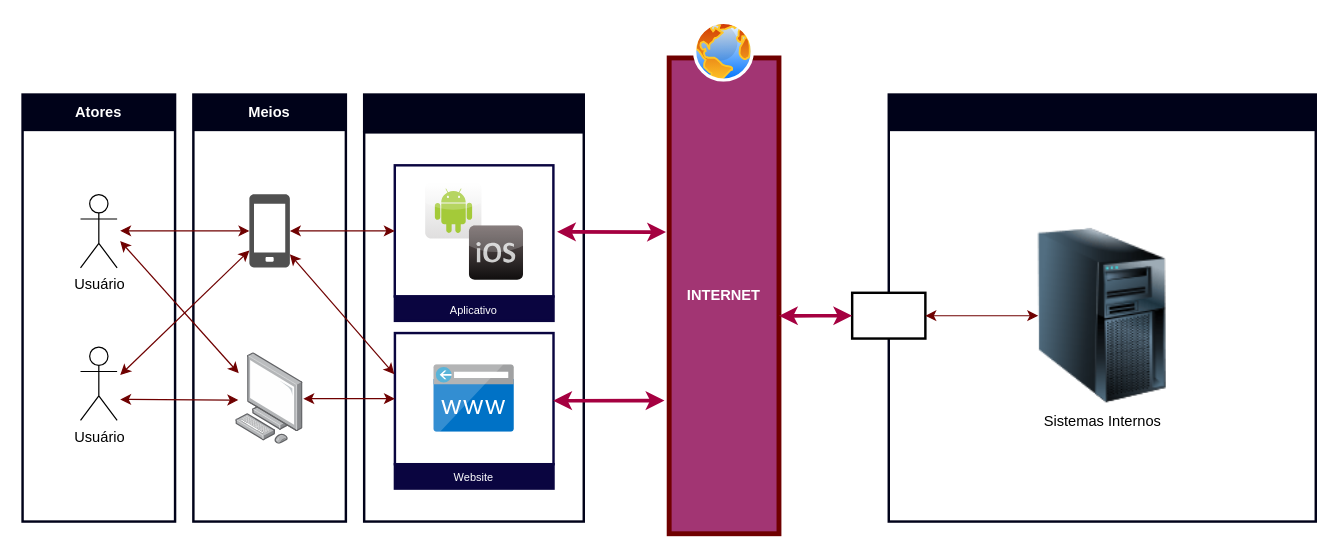
Some shapes in this 1337 by 556 pixel diagram are drawn without their labels. Here are the shapes that lost their labels. From the top down, the box of each, then its label:
(362, 93, 584, 132): Clientes
(888, 94, 1315, 131): Serviços do Ladesa
(850, 291, 926, 339): API
